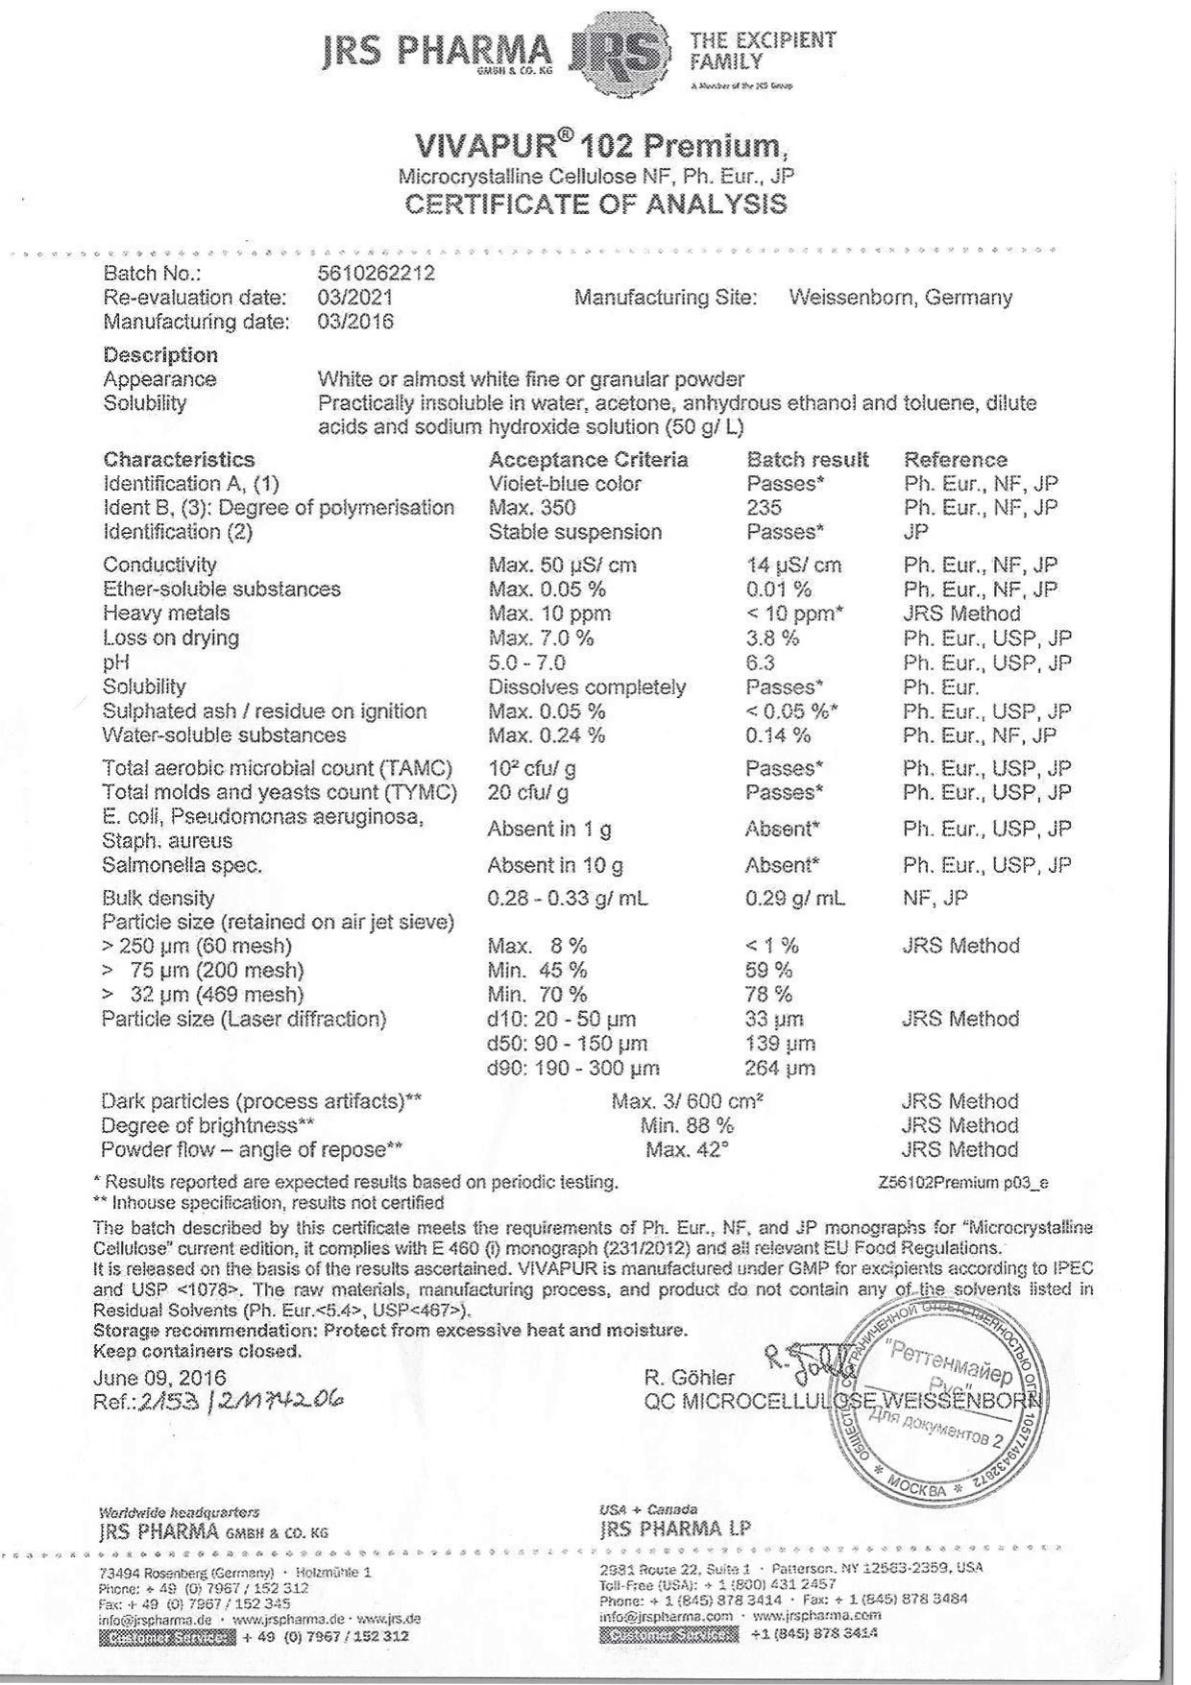nolines: (97, 446, 1072, 1086)
